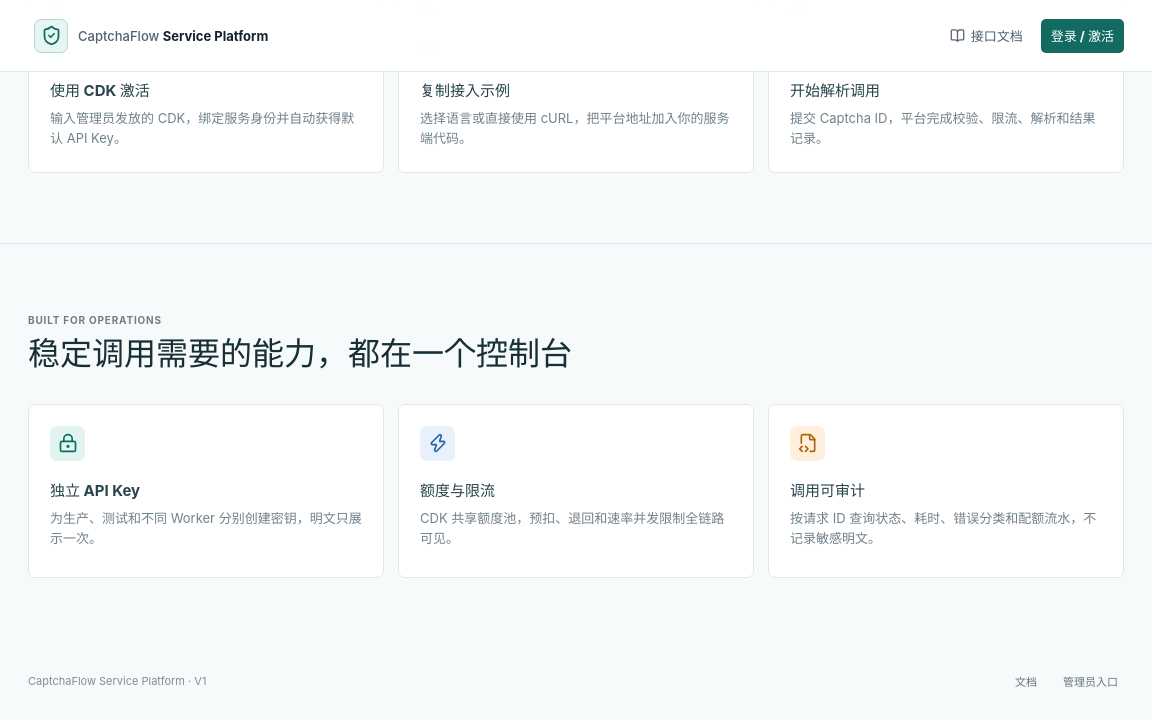
Scenario: App › routes the admin login gate at /admin
This screenshot has width=1152, height=720.
(page scrolled)
Click the button "管理员入口".
click(1090, 681)  # box x1=1057 y1=672 x2=1124 y2=690
(page scrolled)
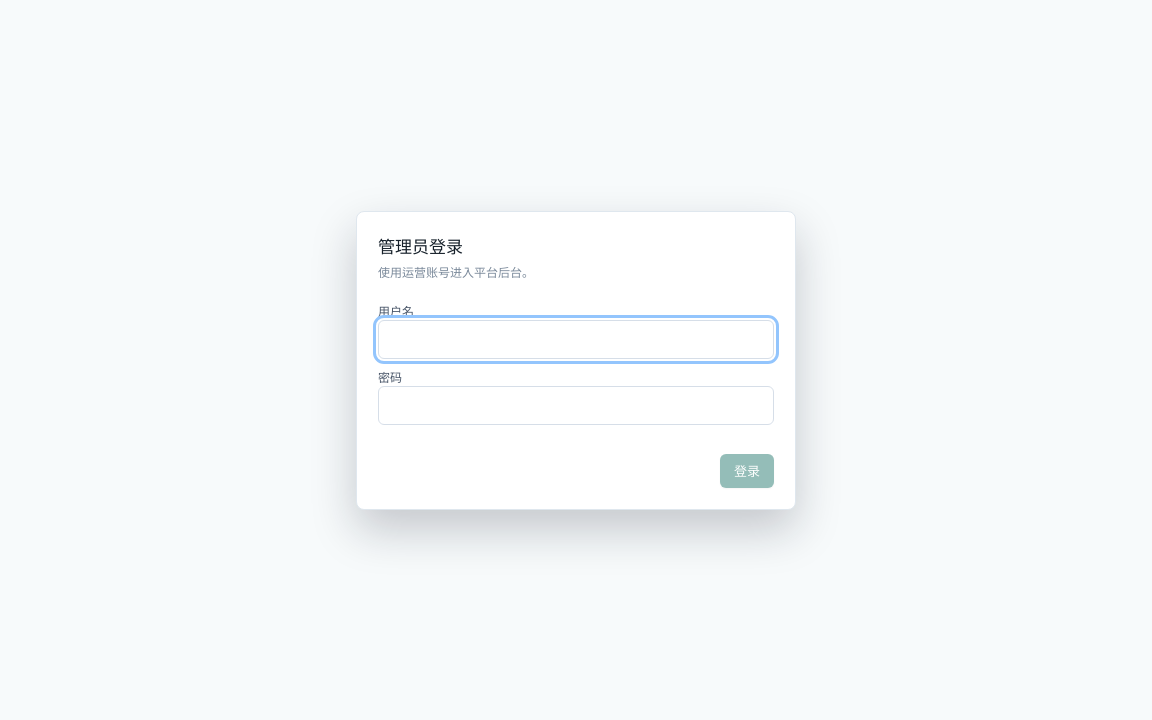
Result: the heading "管理员登录" is shown at x1=378 y1=236 x2=463 y2=256
Result: the field labelled "用户名" is shown at x1=378 y1=320 x2=774 y2=358
Result: the password field labelled "密码" is shown at x1=378 y1=386 x2=774 y2=424
